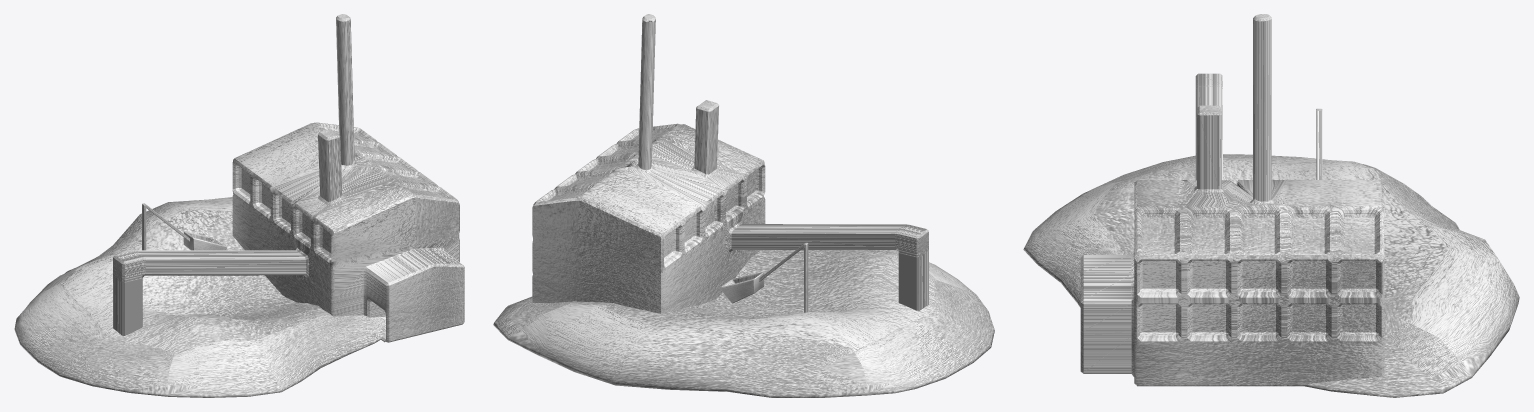
The model's file is kopalniaFBX.FBX.
The picture shows the model from 3 angles, left to right: view 1: azimuth 30°, elevation 25°; view 2: azimuth 150°, elevation 25°; view 3: azimuth 270°, elevation 25°; orthographic projection. The views are drawn at different scales.
Parts seen in each view (by area): view 1: Box002; view 2: Box002; view 3: Box002.
Boxes of the visible parts, x1,y1,x2,y2 form: Box002: [14, 14, 464, 397]; Box002: [493, 14, 994, 397]; Box002: [1023, 14, 1519, 397].
Bounding box in the file's own units: 104 × 91.27 × 68.
1 material, 1 textured.
